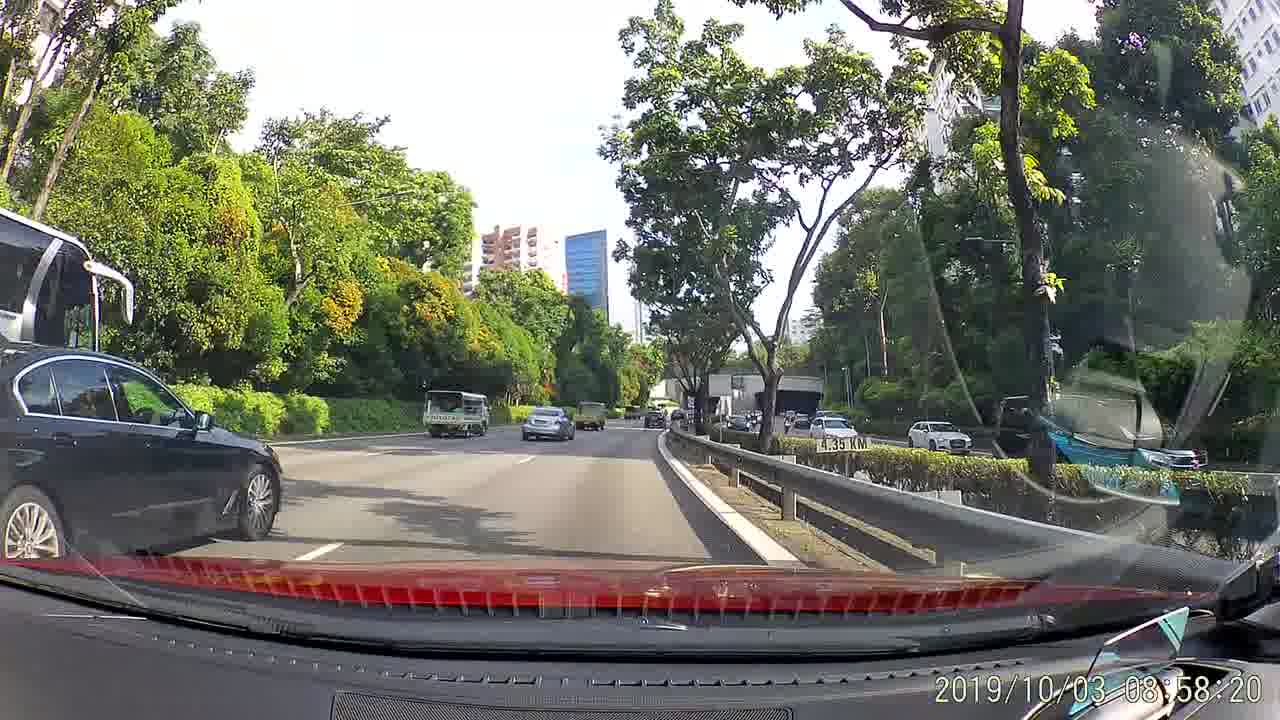bus: (0, 207, 137, 360)
car: (0, 347, 286, 557), (993, 390, 1210, 472), (907, 416, 976, 450), (521, 402, 576, 443), (810, 416, 862, 443), (644, 408, 666, 431), (726, 414, 750, 431), (670, 408, 687, 421)
